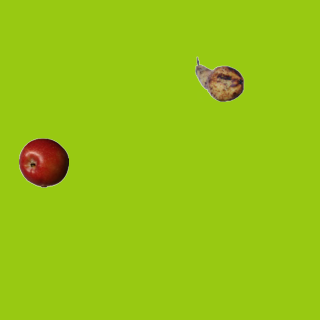Apple Braeburn: (18, 137, 68, 187)
Pear Abate: (194, 54, 244, 104)
